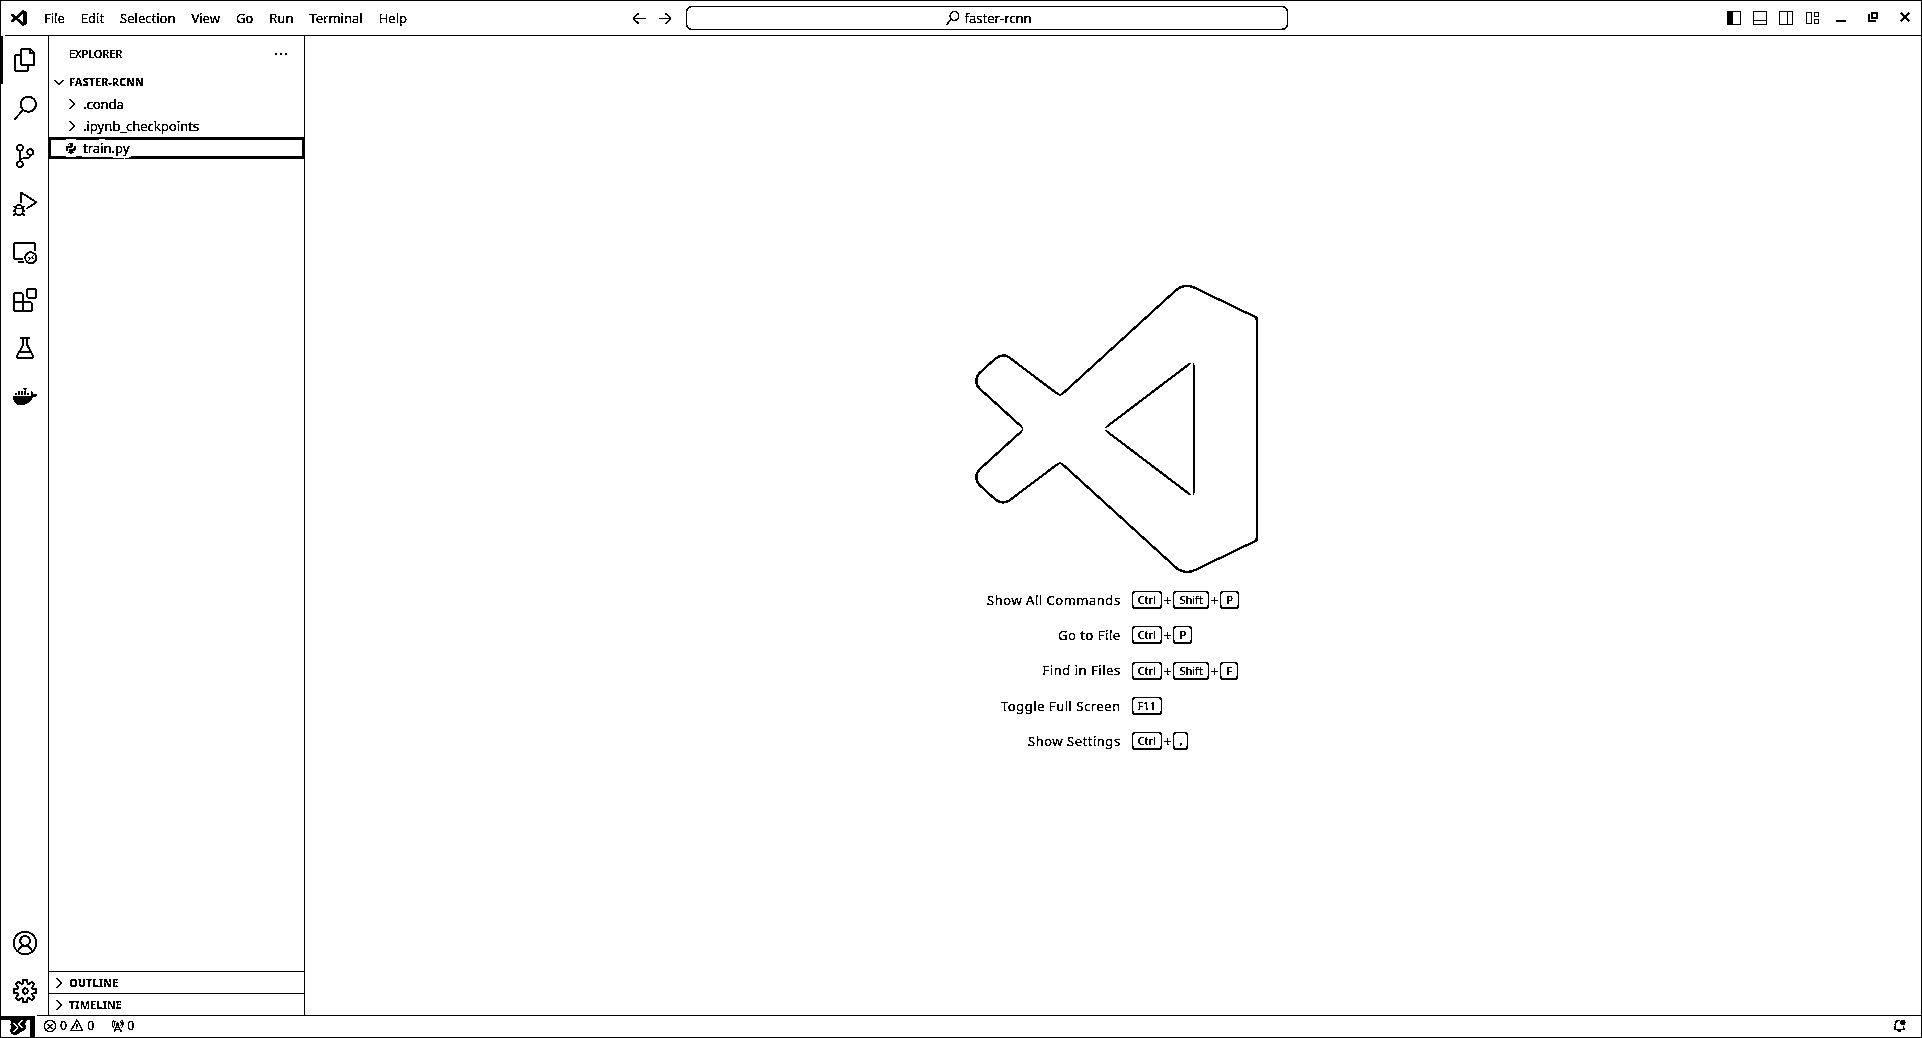Accounts: (6, 926, 38, 955)
Activity Bar: (0, 35, 43, 1012)
Close: (1894, 6, 1913, 28)
Editor: (303, 37, 1914, 1012)
Explorer: (6, 41, 40, 78)
Extensions: (8, 284, 40, 314)
Manage: (4, 974, 38, 1009)
Maximize: (1862, 6, 1882, 26)
Minimize: (1829, 10, 1847, 23)
Primary Side Bar: (46, 37, 300, 1012)
Run and Debug: (5, 179, 40, 219)
Search: (10, 89, 40, 121)
Source Control: (6, 130, 40, 167)
Status Bar: (0, 1015, 1916, 1035)
Testing: (6, 332, 40, 364)
Top Bar: (3, 0, 1918, 33), (677, 0, 1289, 33)
